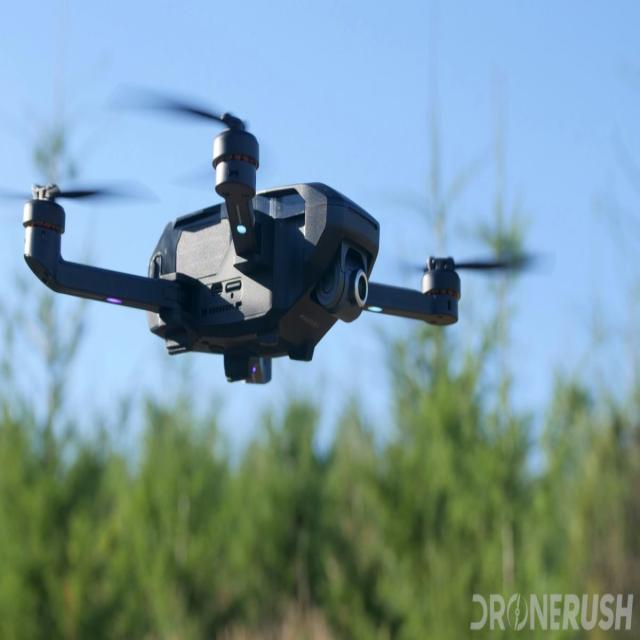drone: (11, 71, 478, 396)
